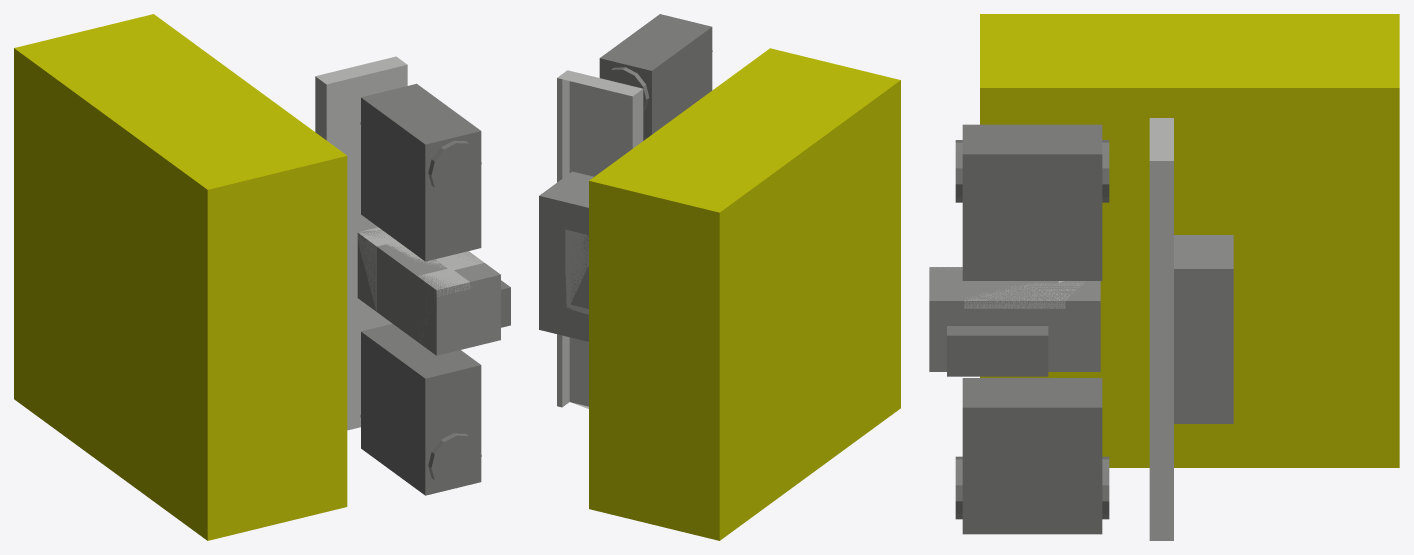
The picture shows the model from 3 angles, left to right: view 1: azimuth 30°, elevation 25°; view 2: azimuth 150°, elevation 25°; view 3: azimuth 270°, elevation 25°; orthographic projection. The views are drawn at different scales.
Size of the model in its own units: 0.103 by 0.12 by 0.1345.
